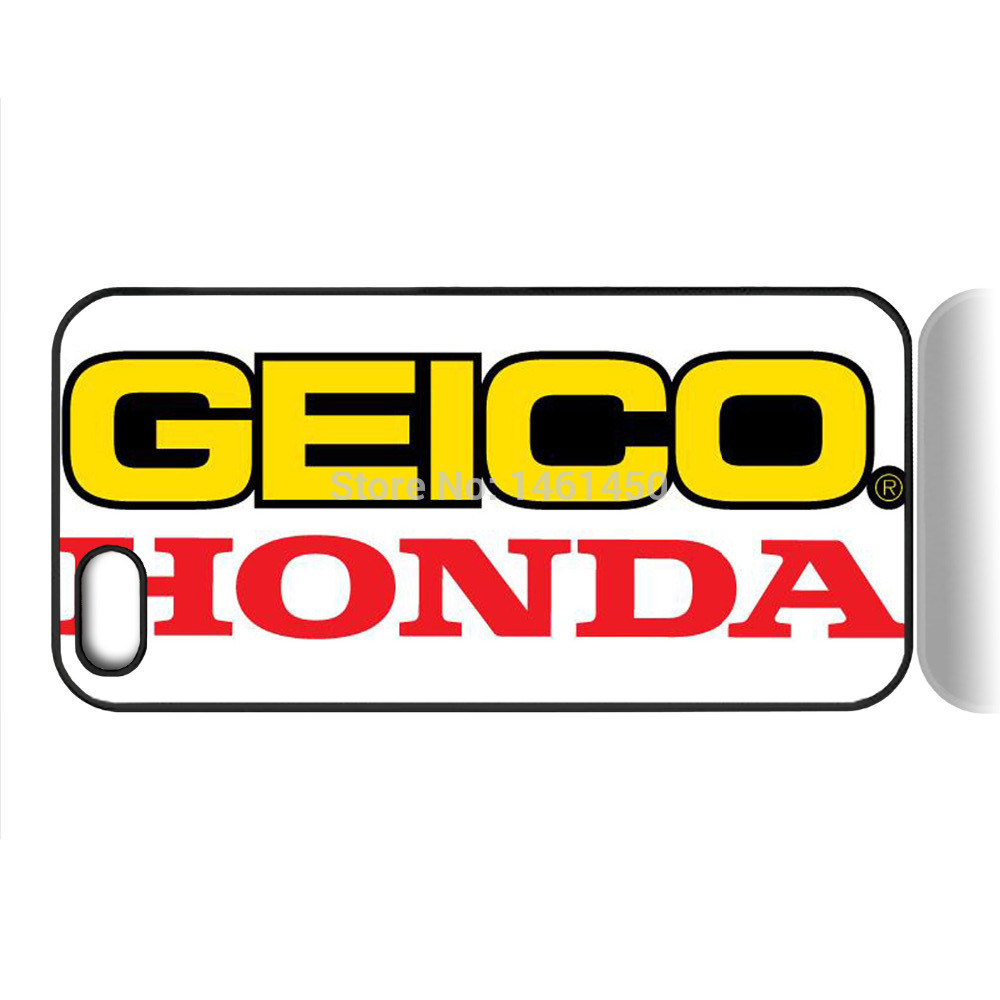geico: (62, 346, 909, 522)
